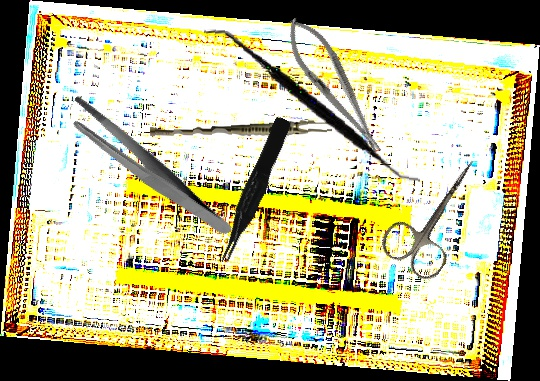Dressing Forceps: (61, 67, 234, 270)
Iris Scissors: (375, 143, 502, 285)
Needle Holder: (275, 9, 394, 163)
Spatula Surgical: (190, 28, 434, 184)
Tissue Forceps: (209, 115, 298, 266), (149, 117, 333, 143)
